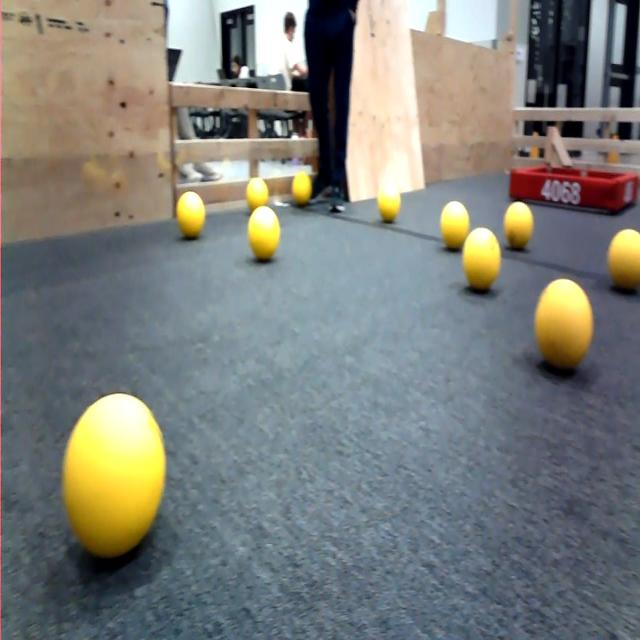Bumper: (502, 148, 640, 222)
fuel: (48, 378, 178, 564), (528, 267, 596, 379), (457, 222, 501, 294), (605, 223, 640, 294), (246, 200, 284, 262), (172, 186, 209, 244), (502, 200, 544, 242), (437, 195, 470, 248), (376, 173, 408, 226), (288, 168, 318, 209), (243, 174, 274, 212)
